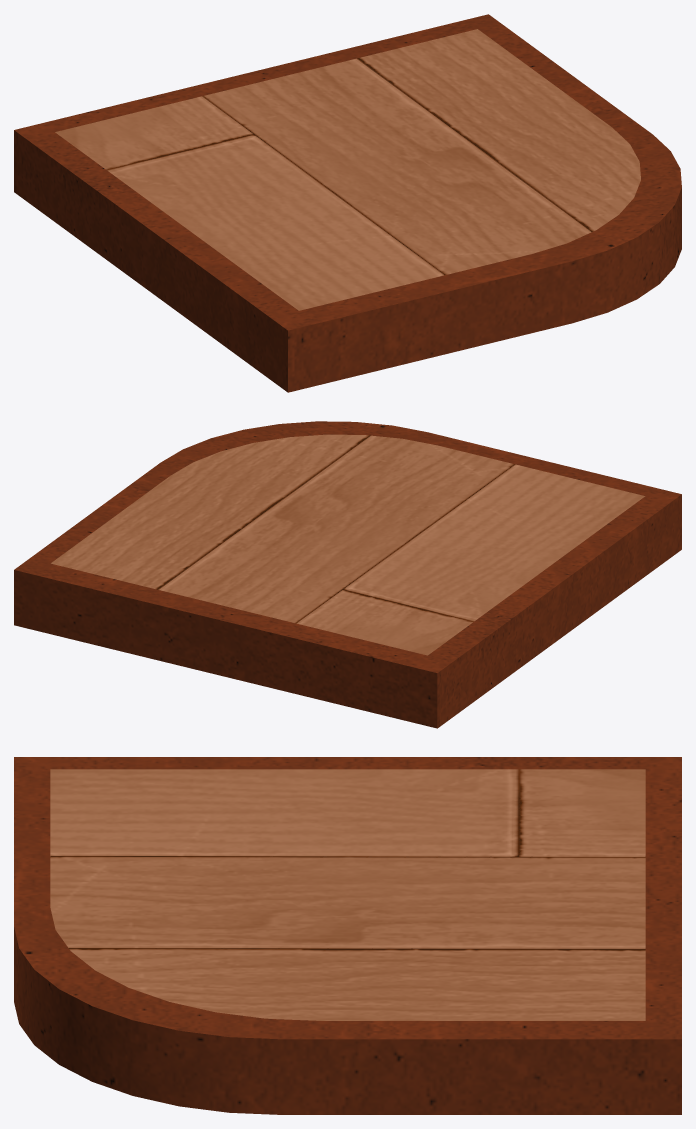
Rendered from FloorTile_OC_L.glb.
3 renders of one model, top to bottom at view 1: azimuth 30°, elevation 25°; view 2: azimuth 150°, elevation 25°; view 3: azimuth 270°, elevation 25°, orthographic. The views are drawn at different scales.
Visible parts, largest first — view 1: Plane.002, Cube.001; view 2: Plane.002, Cube.001; view 3: Plane.002, Cube.001.
Part boxes in pixels (x1=…): Plane.002: x1=55, y1=29, x2=640, y2=310; Cube.001: x1=14, y1=14, x2=681, y2=392; Plane.002: x1=51, y1=434, x2=645, y2=655; Cube.001: x1=14, y1=421, x2=681, y2=728; Plane.002: x1=50, y1=769, x2=645, y2=1020; Cube.001: x1=14, y1=757, x2=681, y2=1114.
Bounding box in the file's own units: 2 × 0.26 × 2.
Materials: 2 (2 with a texture image).
